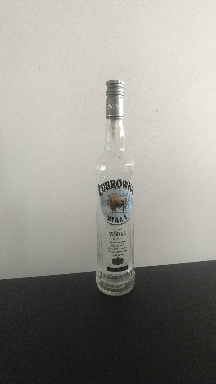butelka: (93, 77, 136, 299)
